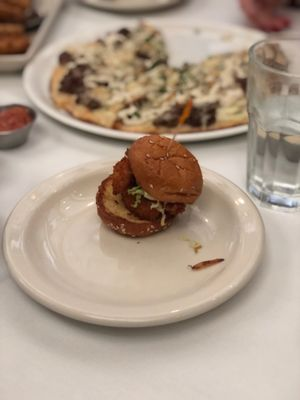pizza: (245, 38, 300, 210)
soup: (95, 135, 204, 238)
sushi: (0, 103, 37, 150)
